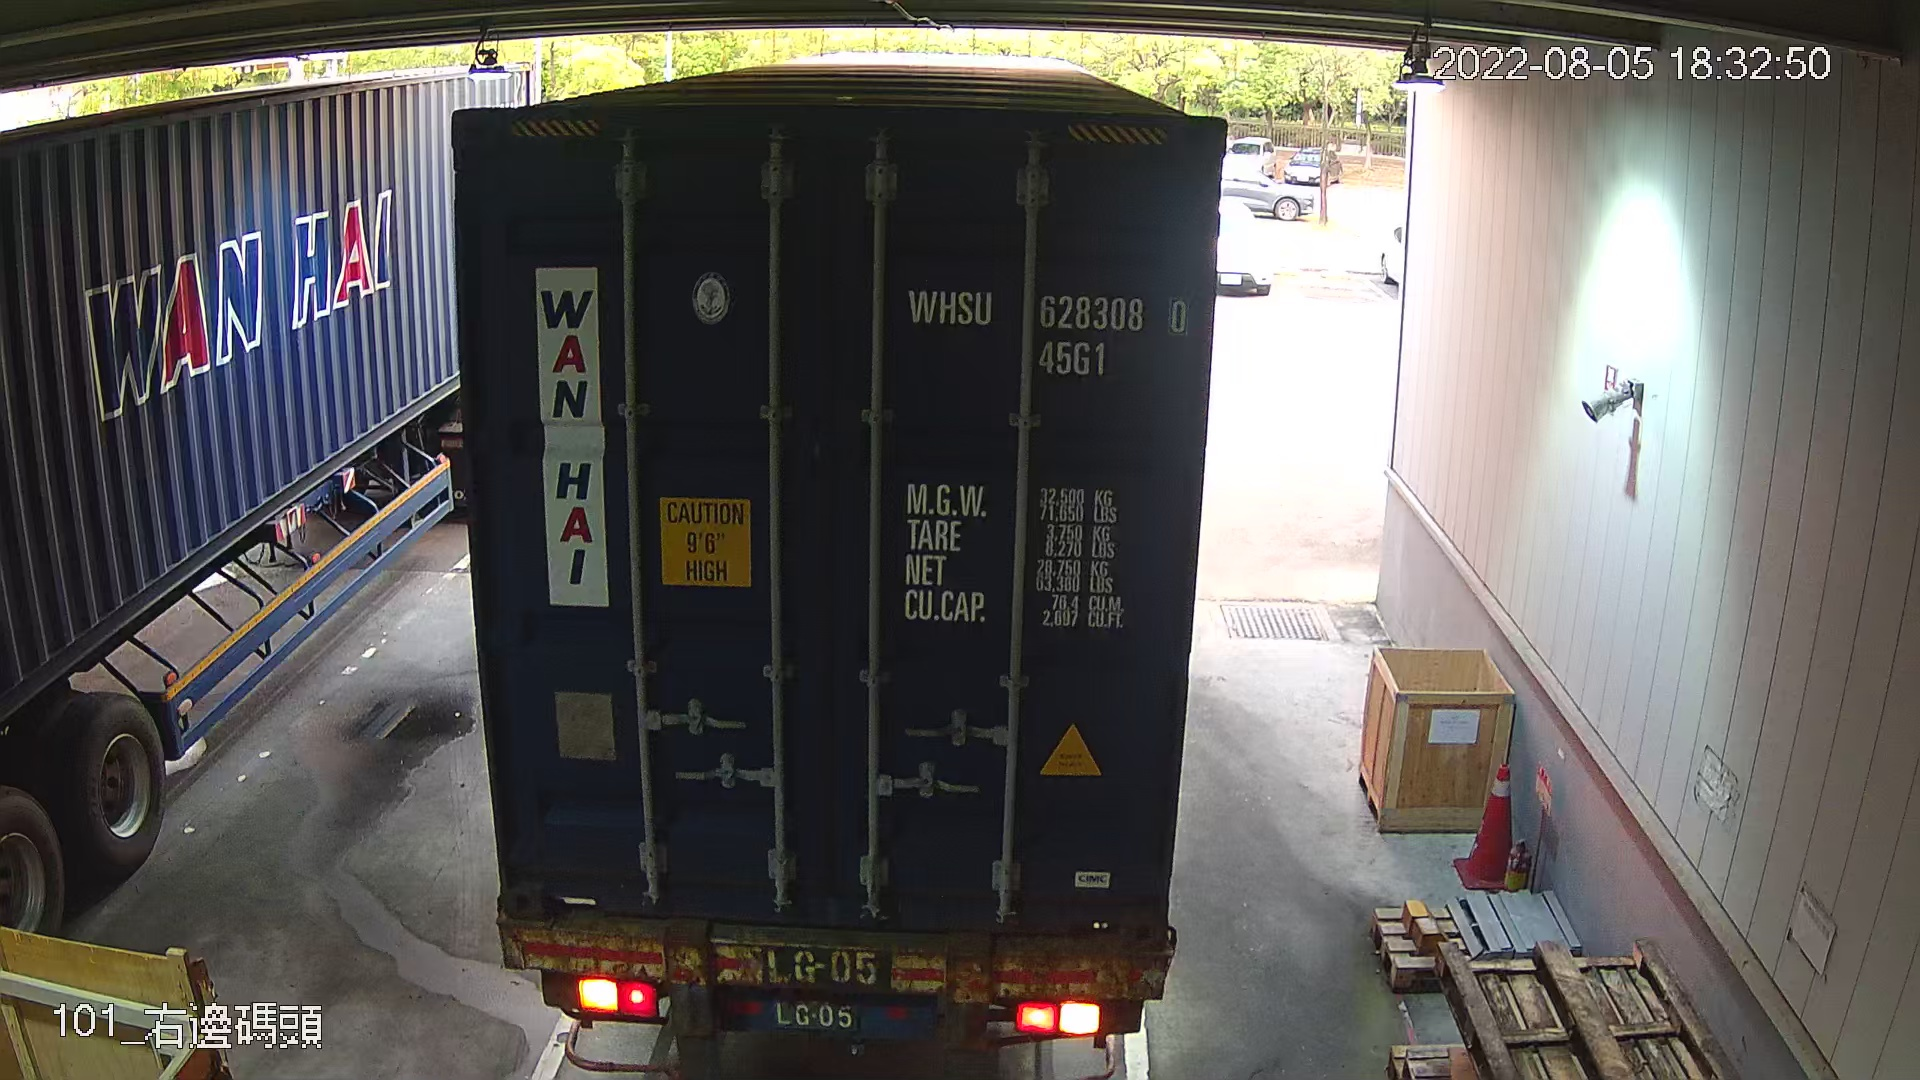container: (897, 266, 1197, 394)
